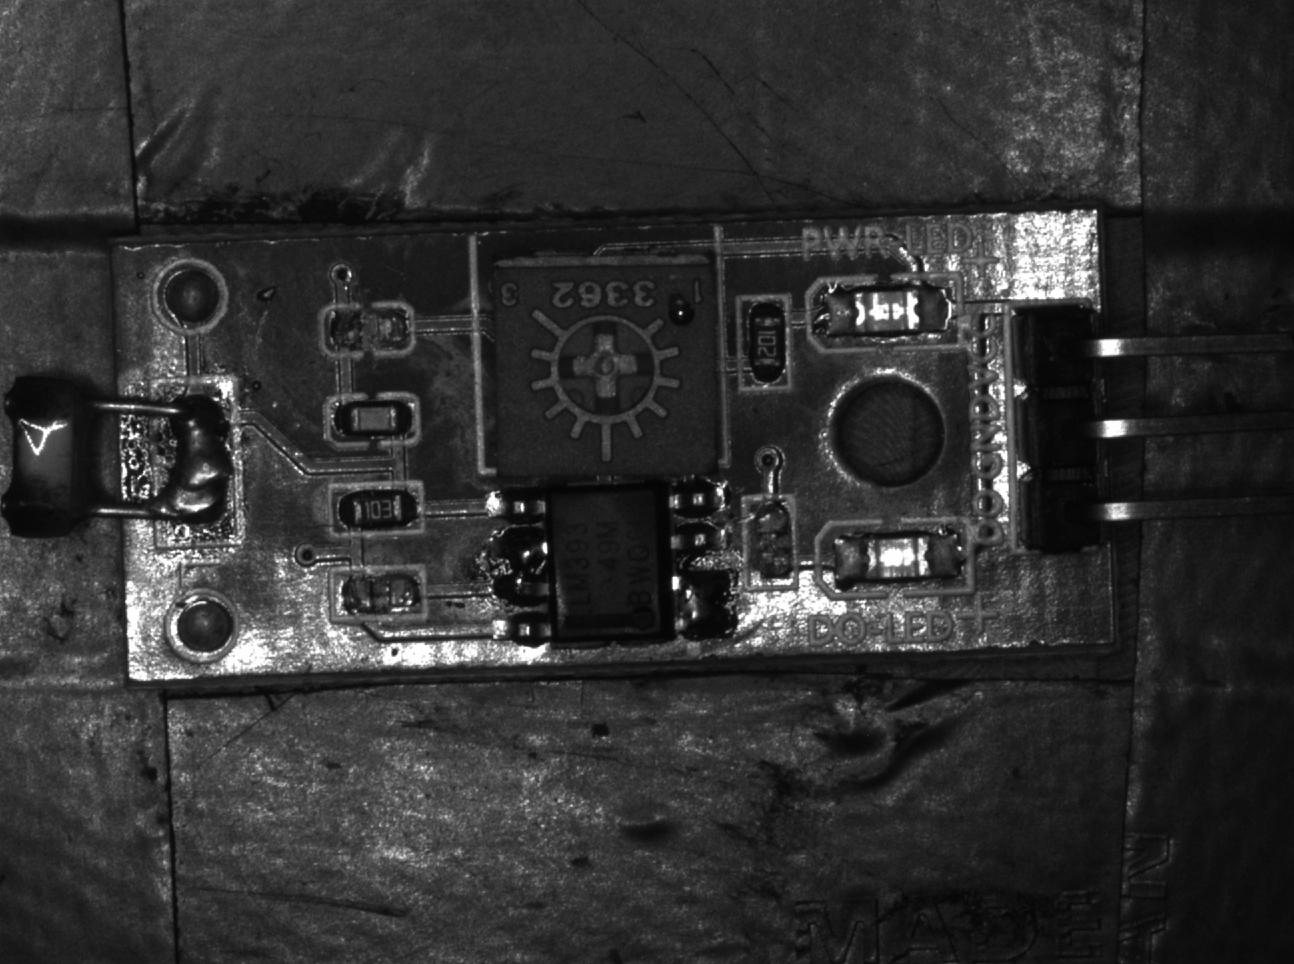bridge: (128, 385, 243, 555), (481, 515, 550, 605), (668, 569, 736, 639)
miss: (330, 570, 433, 626), (320, 306, 424, 358), (744, 498, 799, 588)
ok: (736, 294, 796, 390), (334, 483, 426, 535), (326, 396, 424, 441)
